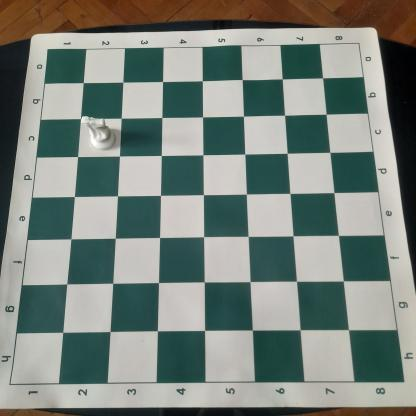white-knight: (80, 114, 118, 152)
